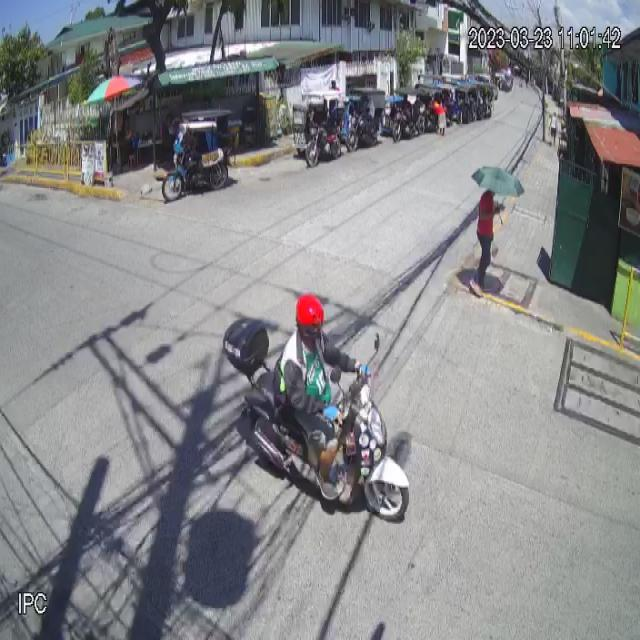Motorcycle: (218, 316, 416, 521)
Tricycle: (161, 107, 232, 202)
